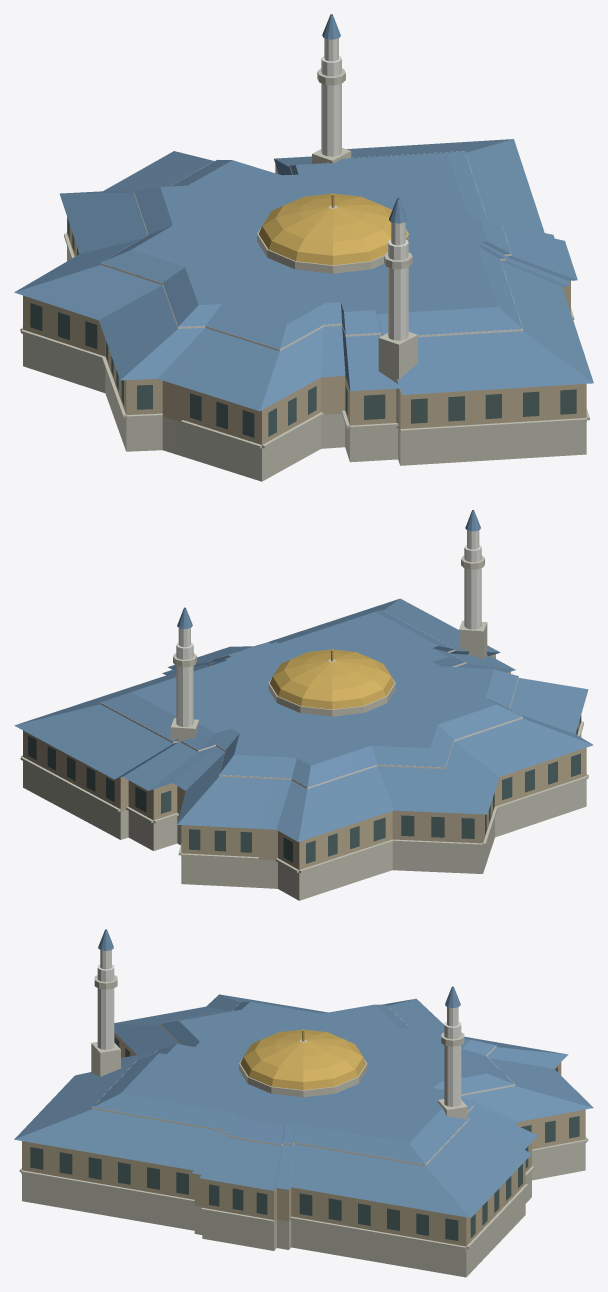
Rendered from masjid_lod2.glb.
3 views of the same model, one above another, from view 1: azimuth 30°, elevation 25°; view 2: azimuth 150°, elevation 25°; view 3: azimuth 270°, elevation 25° (orthographic). The views are drawn at different scales.
Parts seen in each view (by area): view 1: RoofBlue, Stone, PaintWarm, GoldPanels, GlassDark, PaintWhite; view 2: RoofBlue, Stone, PaintWarm, GoldPanels, GlassDark, PaintWhite; view 3: RoofBlue, Stone, PaintWarm, GoldPanels, GlassDark, PaintWhite.
Part boxes in pixels (left/top/right/bottom): RoofBlue: left=14, top=14, right=593, bottom=411; Stone: left=20, top=68, right=589, bottom=481; PaintWarm: left=23, top=164, right=586, bottom=444; GoldPanels: left=258, top=193, right=407, bottom=265; GlassDark: left=30, top=219, right=576, bottom=437; PaintWhite: left=100, top=38, right=523, bottom=351; RoofBlue: left=14, top=510, right=593, bottom=841; Stone: left=20, top=555, right=588, bottom=900; PaintWarm: left=23, top=654, right=586, bottom=869; GoldPanels: left=270, top=649, right=394, bottom=709; GlassDark: left=28, top=715, right=581, bottom=863; PaintWhite: left=100, top=530, right=522, bottom=788; RoofBlue: left=14, top=929, right=593, bottom=1217; Stone: left=19, top=975, right=588, bottom=1277; PaintWarm: left=22, top=1032, right=585, bottom=1246; GoldPanels: left=240, top=1029, right=365, bottom=1090; GlassDark: left=30, top=1037, right=579, bottom=1240; PaintWhite: left=92, top=950, right=515, bottom=1166.
Size of the model in its own units: 62.31 by 27.8 by 68.24.
